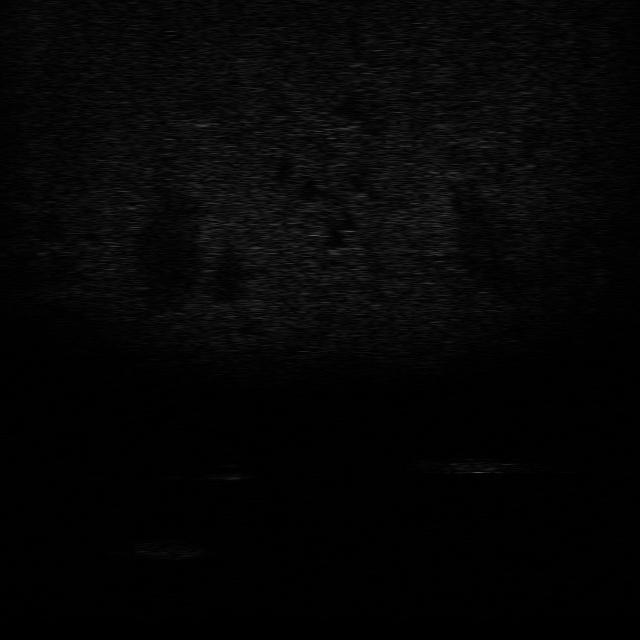ball: (210, 460, 251, 484)
circle cage: (125, 535, 207, 564)
human body: (408, 452, 530, 476)
